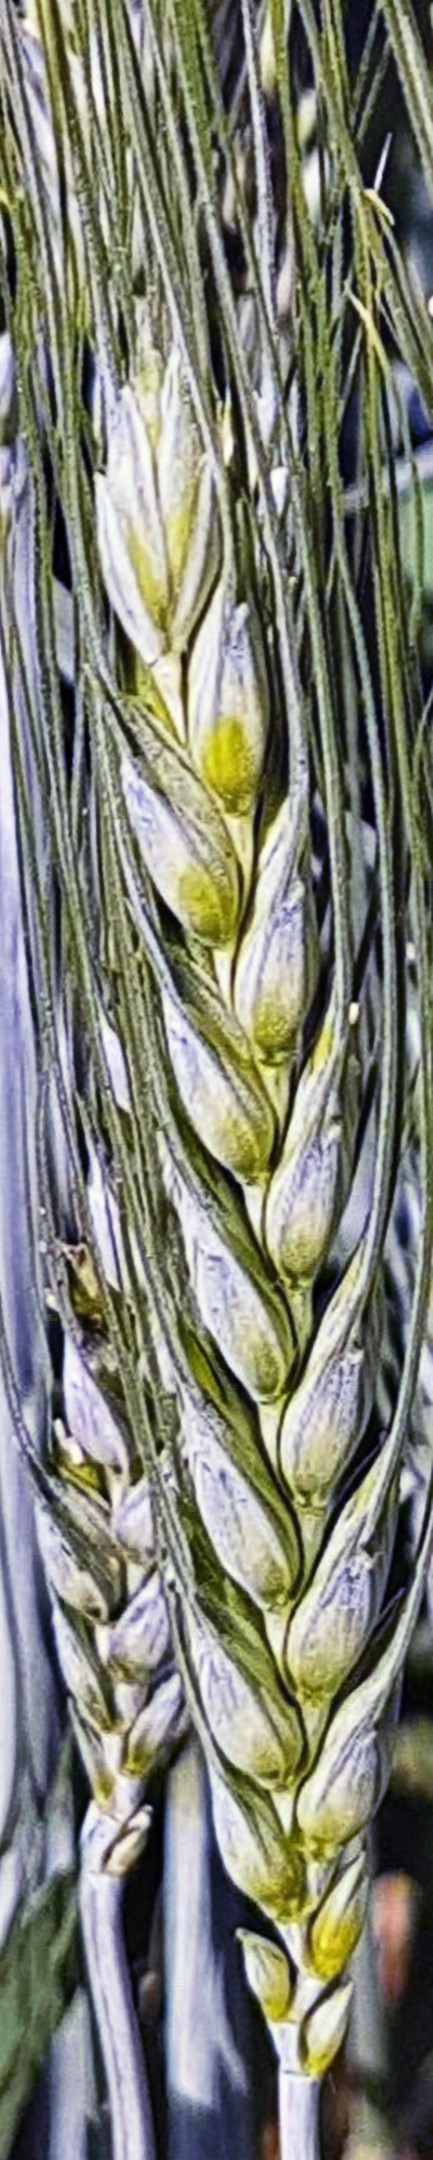Healthy Wheat: (94, 391, 433, 1956)
